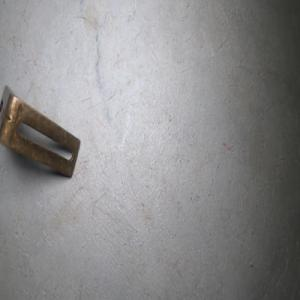MetalPart: (0, 82, 81, 180)
